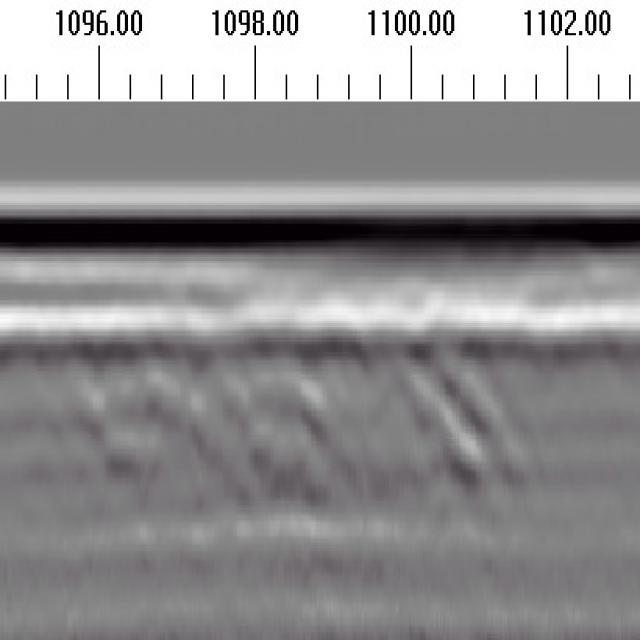loose: (65, 324, 524, 511)
